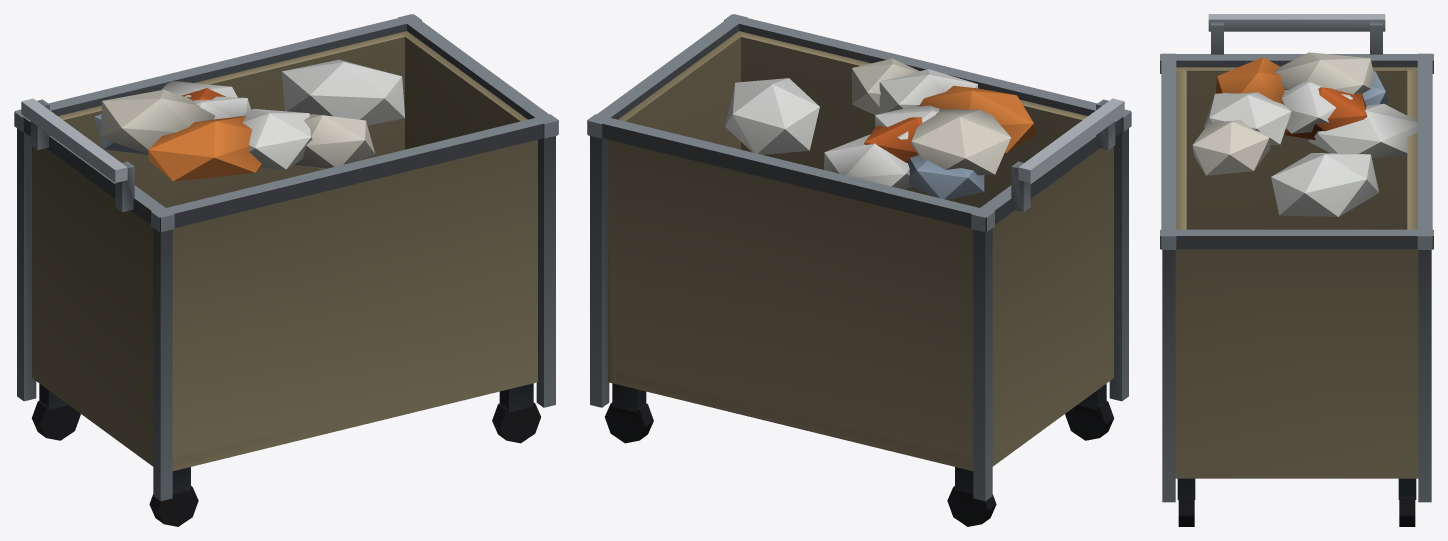
Rendered from laundry_cart.glb.
The picture shows the model from 3 angles, left to right: view 1: azimuth 30°, elevation 25°; view 2: azimuth 150°, elevation 25°; view 3: azimuth 270°, elevation 25°; orthographic projection. The views are drawn at different scales.
Visible parts, largest first — view 1: Body; view 2: Body; view 3: Body.
Boxes of the visible parts, x1,y1,x2,y2 form: Body: (14,14,558,526); Body: (587,14,1131,526); Body: (1160,14,1433,526).
Size of the model in its own units: 1.02 by 0.8406 by 0.62.
